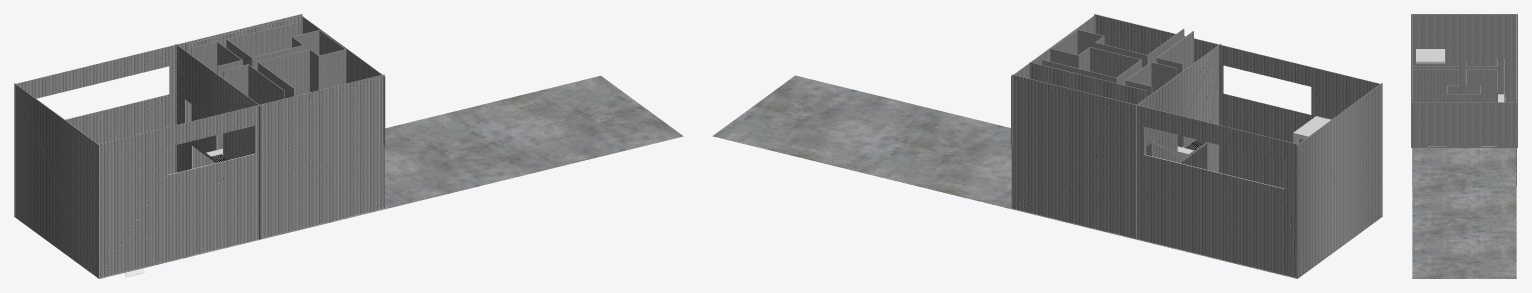
File: upstairs_blockout.fbx
3 renders of one model, left to right at view 1: azimuth 30°, elevation 25°; view 2: azimuth 150°, elevation 25°; view 3: azimuth 270°, elevation 25°, orthographic. The views are drawn at different scales.
Visible parts, largest first — view 1: Cube_12_2, Cube_13, Cube_5, Cube_12_3, midwall_2_2, midwall_4, midwall_7, Cube_12, midwall_12, midwall_10, midwall_1, midwall_9 (+1 smaller); view 2: Cube_12_3, Cube_13, Cube_5, Cube_12_2, midwall_2_2, midwall_10, midwall_6, midwall_1, Cube_12, midwall_8, midwall_4; view 3: Cube_13, Cube_5, Cube_12, midwall_2_2, midwall_3, midwall_2, offTopWall, midwall_13, midwall_1, Cube_12_2, Cube_12_3, midwall_14 (+3 smaller).
Part boxes in pixels (x1,y1,x2,y2): Cube_12_2: [97, 74, 384, 277]; Cube_13: [99, 75, 683, 278]; Cube_5: [14, 83, 99, 278]; Cube_12_3: [15, 14, 302, 217]; midwall_2_2: [175, 44, 260, 239]; midwall_4: [226, 21, 301, 57]; midwall_7: [258, 49, 309, 95]; Cube_12: [301, 15, 385, 145]; midwall_12: [318, 49, 346, 89]; midwall_10: [185, 15, 302, 122]; midwall_1: [248, 64, 284, 104]; midwall_9: [223, 64, 248, 153]; Cube_12_3: [1011, 74, 1298, 277]; Cube_13: [712, 75, 1296, 278]; Cube_5: [1297, 83, 1382, 278]; Cube_12_2: [1094, 14, 1381, 217]; midwall_2_2: [1135, 43, 1221, 239]; midwall_10: [1029, 62, 1146, 154]; midwall_6: [1090, 47, 1140, 77]; midwall_1: [1157, 31, 1193, 70]; Cube_12: [1011, 15, 1095, 145]; midwall_8: [1151, 62, 1176, 93]; midwall_4: [1042, 60, 1116, 82]; Cube_13: [1412, 99, 1516, 278]; Cube_5: [1411, 14, 1517, 98]; Cube_12: [1411, 102, 1517, 145]; midwall_2_2: [1411, 63, 1517, 147]; midwall_3: [1413, 69, 1458, 102]; midwall_2: [1466, 69, 1497, 102]; offTopWall: [1416, 49, 1444, 61]; midwall_13: [1448, 94, 1480, 147]; midwall_1: [1413, 66, 1458, 69]; Cube_12_2: [1412, 14, 1412, 186]; Cube_12_3: [1516, 14, 1516, 186]; midwall_14: [1466, 85, 1480, 93].
Size of the model in its own units: 5444 by 1491 by 1366.
24 materials, 24 textured.
